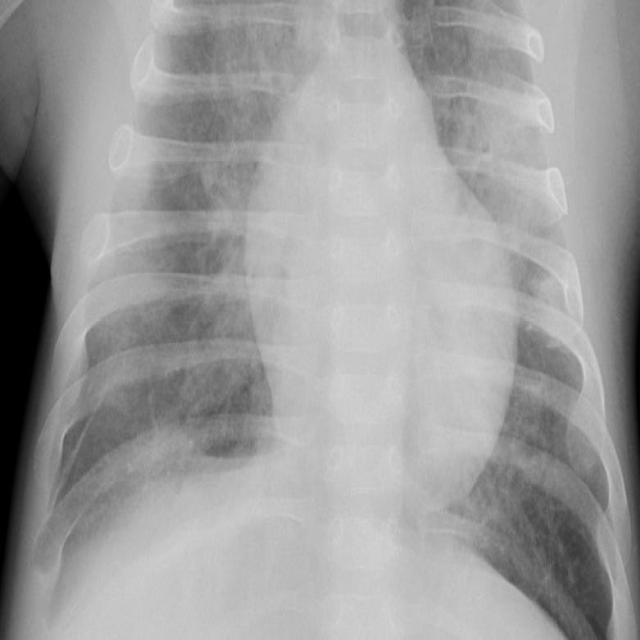high-pneumonia: (431, 48, 561, 307), (92, 88, 173, 361), (212, 3, 312, 131)
no-pneumonia: (190, 185, 257, 375)
